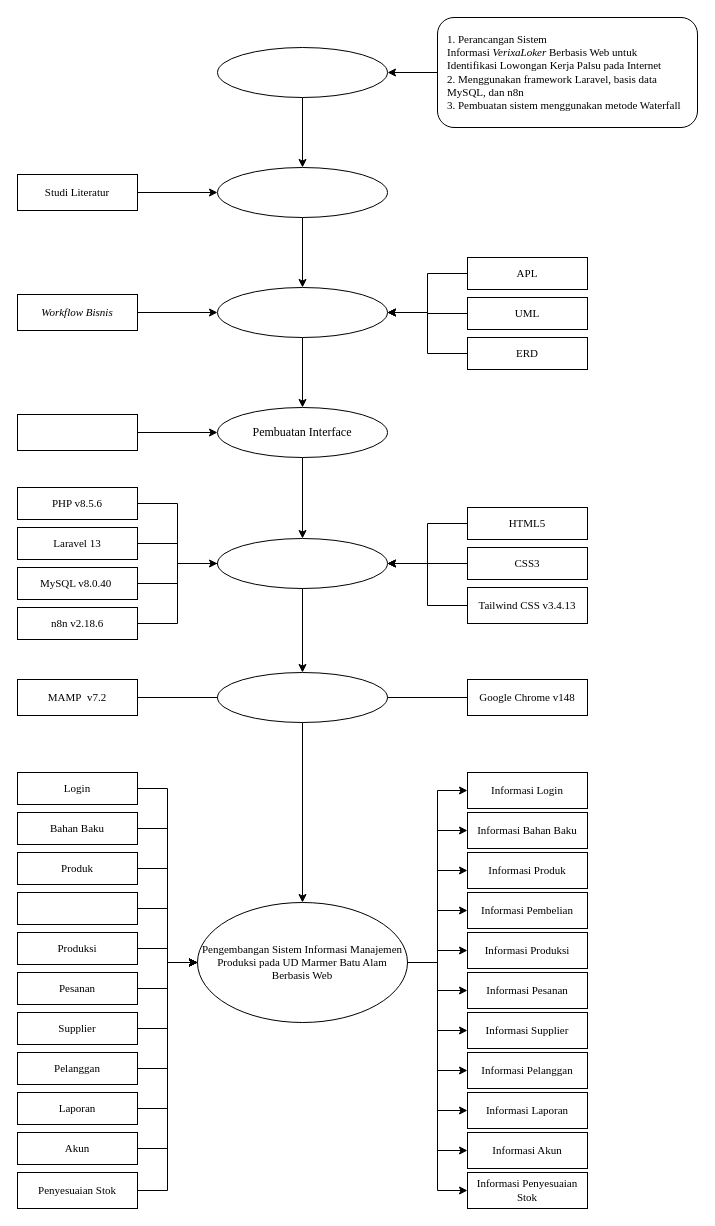
The diagram is 715 pixels wide and 1226 high, and some of its shapes have lost their labels. The box of each missing label's shape, as (x1, y1, x2, y2) in pixels:
Analisis Kebutuhan: (216, 166, 388, 218)
Analisis Sistem: (216, 46, 388, 98)
Figma: (16, 414, 138, 450)
Implementasi Sistem: (216, 672, 388, 722)
Pembelian: (16, 892, 138, 924)
Pembuatan Sistem: (216, 538, 388, 588)
Perancangan Sistem: (216, 286, 388, 338)
